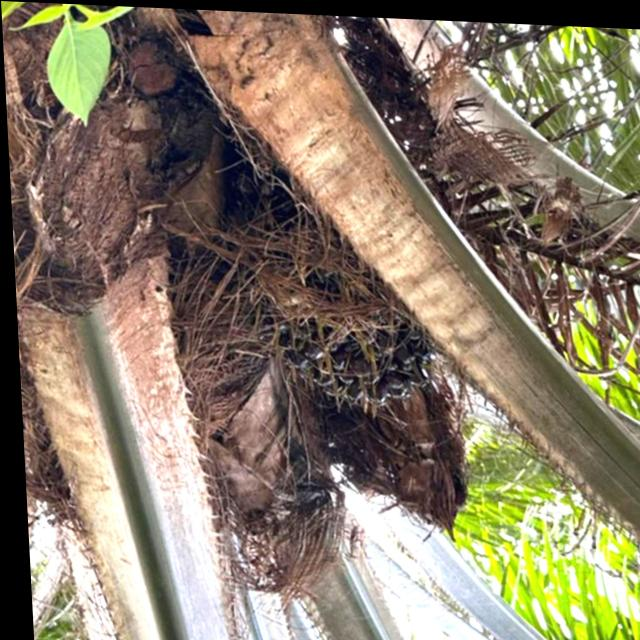unripe: (213, 139, 499, 429)
